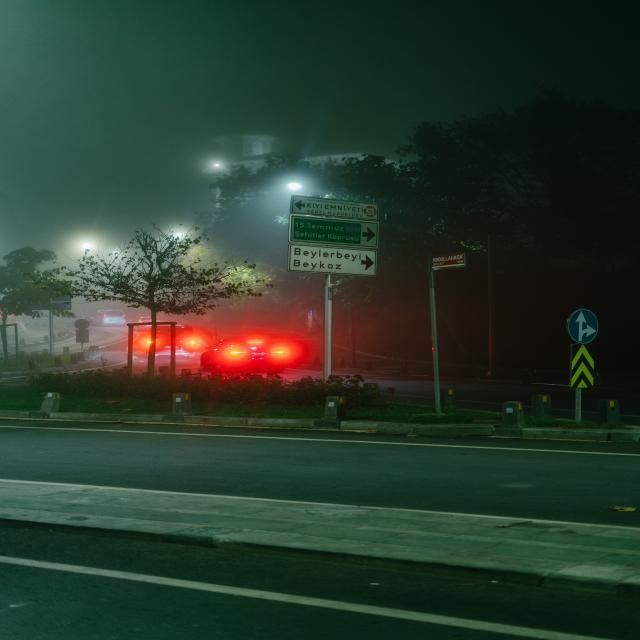car: (201, 337, 290, 372), (145, 324, 197, 359), (88, 307, 128, 327)
